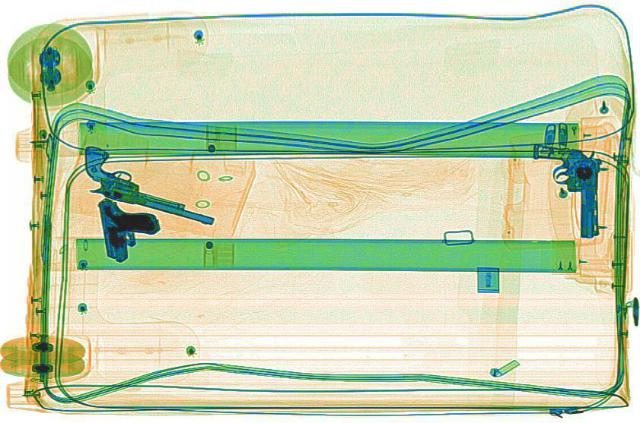Gun: (58, 143, 242, 224), (528, 140, 602, 237), (90, 194, 162, 263)
